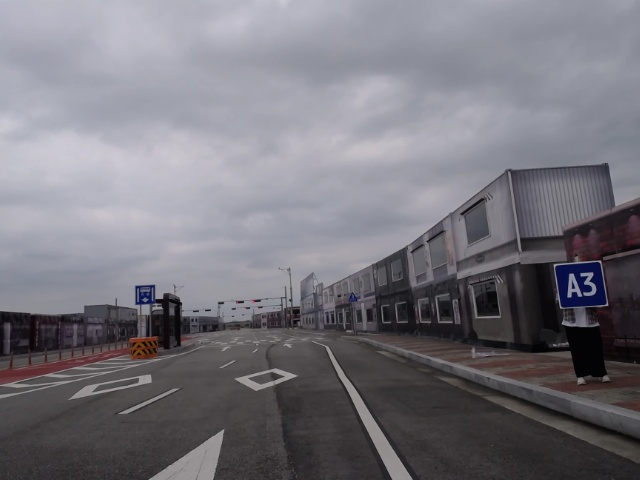delivery_a3: (554, 261, 608, 308)
